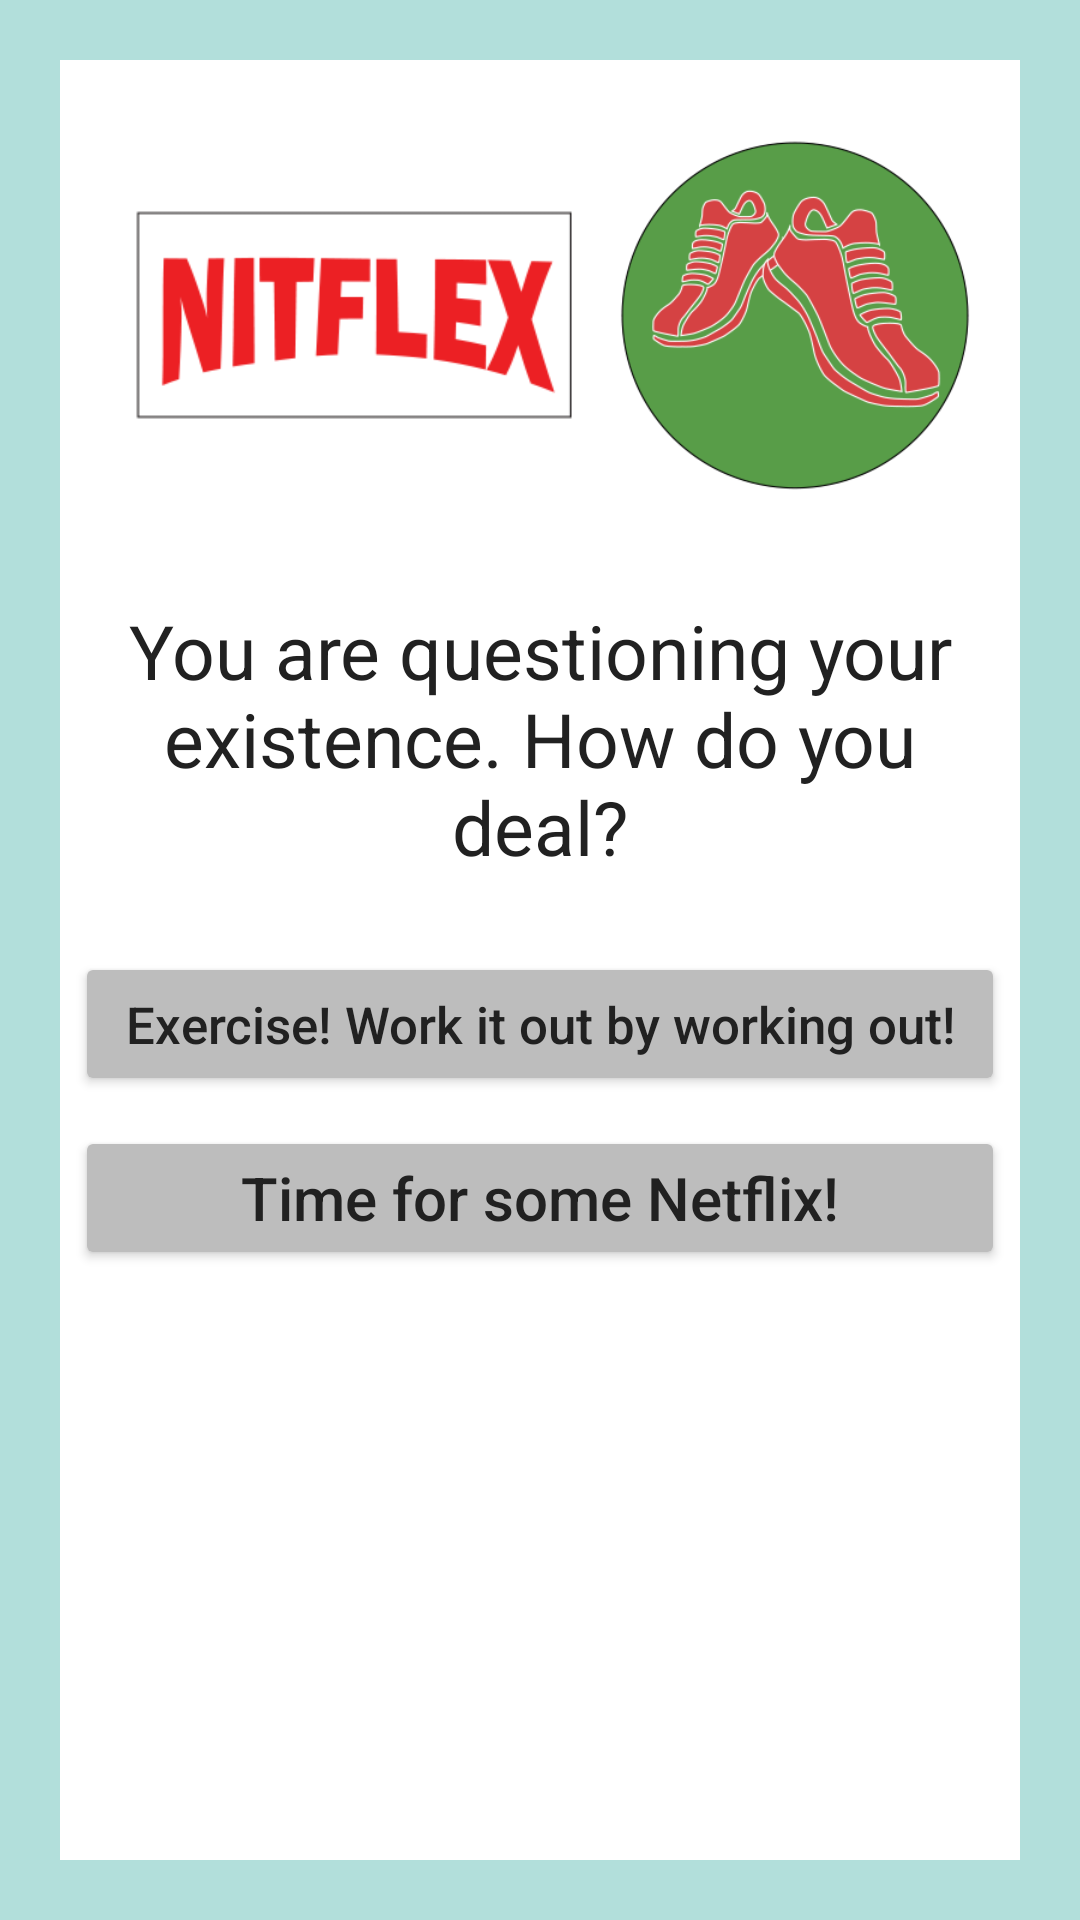

Named icons in this screenshot (1080*1920) and their centers, (x=x, y=y):
shoes 4d: (x=795, y=315)
